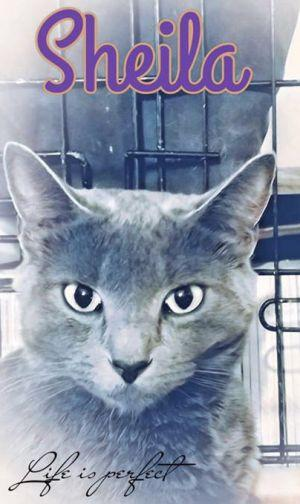rblue: (1, 121, 300, 438)
